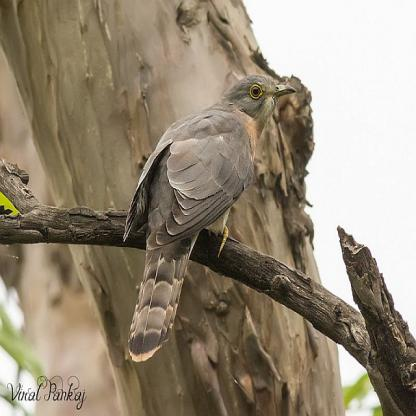Burung: (122, 74, 297, 361)
